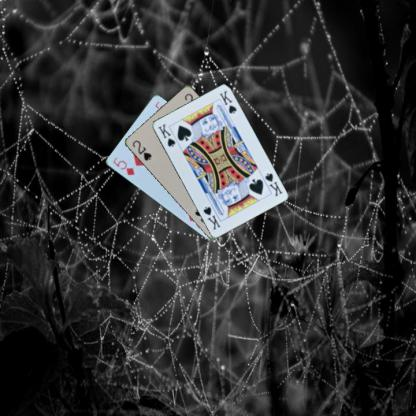2s: (130, 137, 152, 162)
5d: (110, 154, 136, 177)
Ks: (262, 170, 284, 198), (156, 121, 177, 148)
